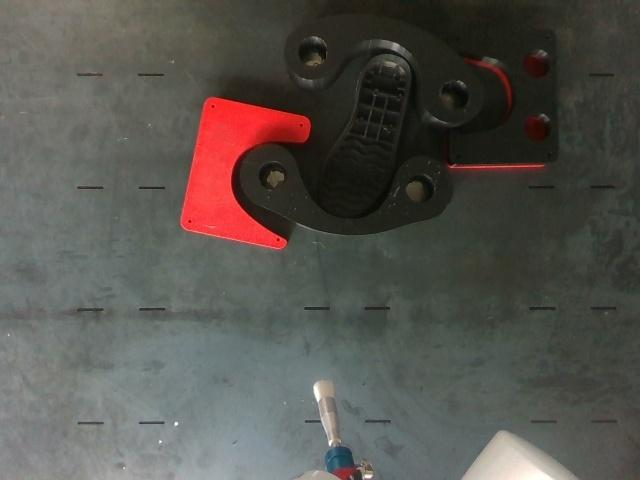shoes: (320, 54, 410, 215)
